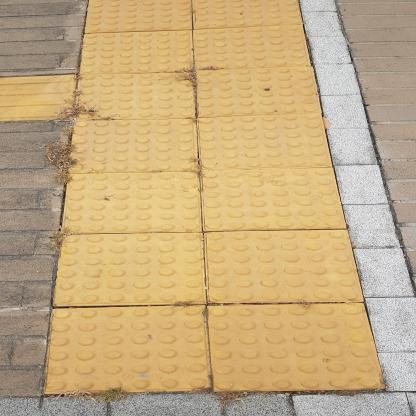podotacti: (0, 0, 396, 401)
